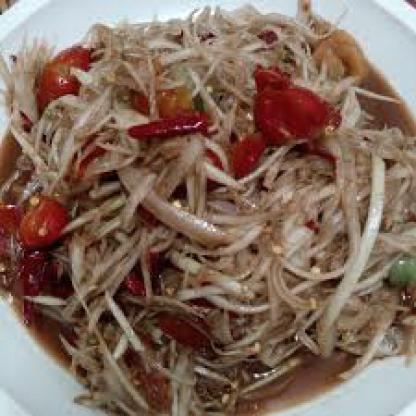Papaya Salad: (13, 14, 409, 414)
